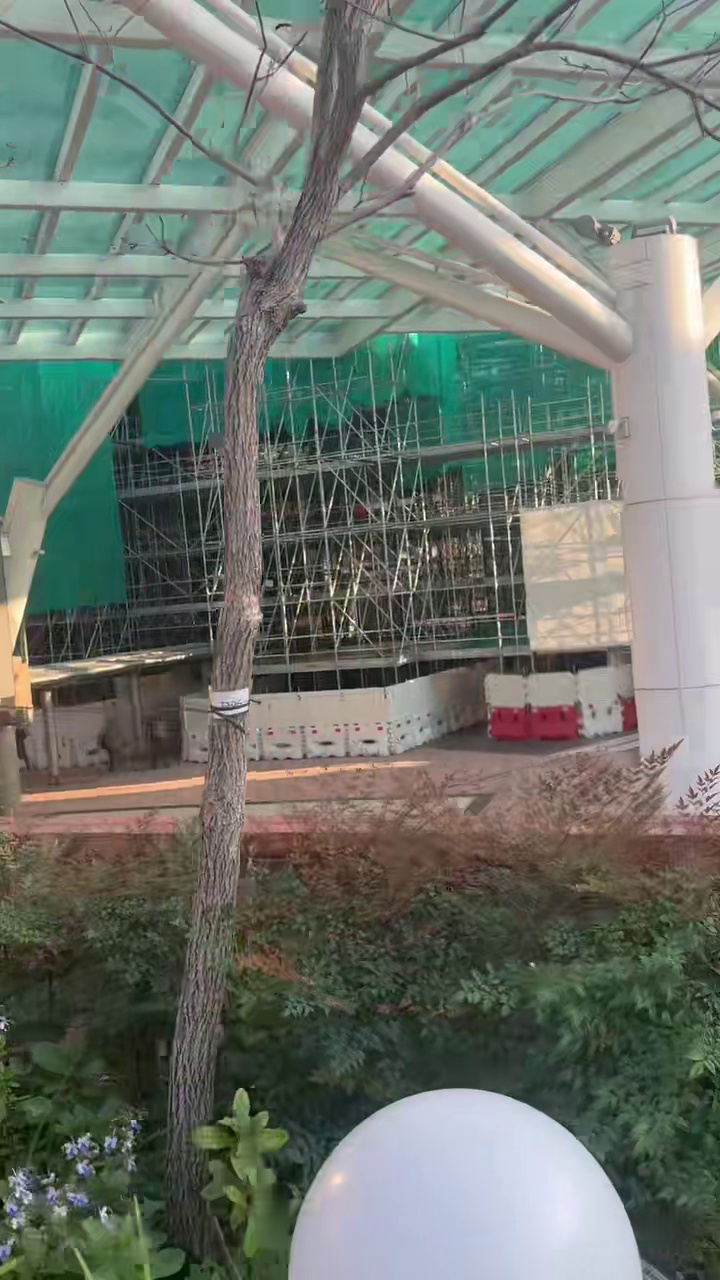Tabebuia chrysantha: (167, 0, 709, 1256)
